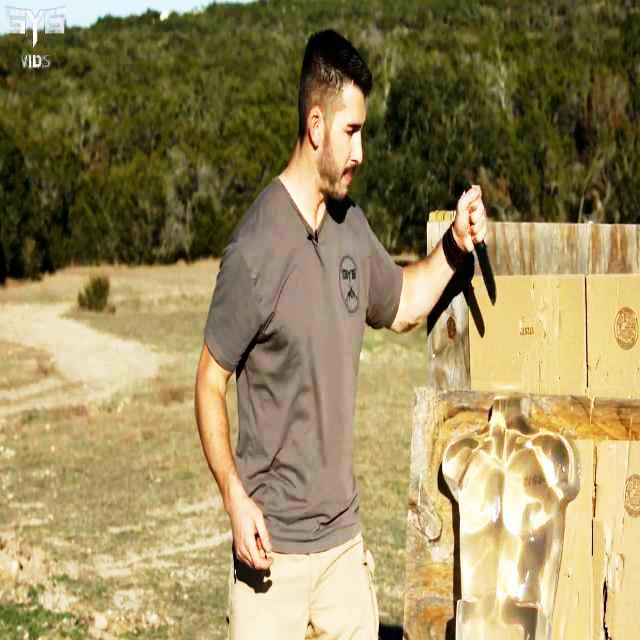Knife: (456, 187, 509, 326)
